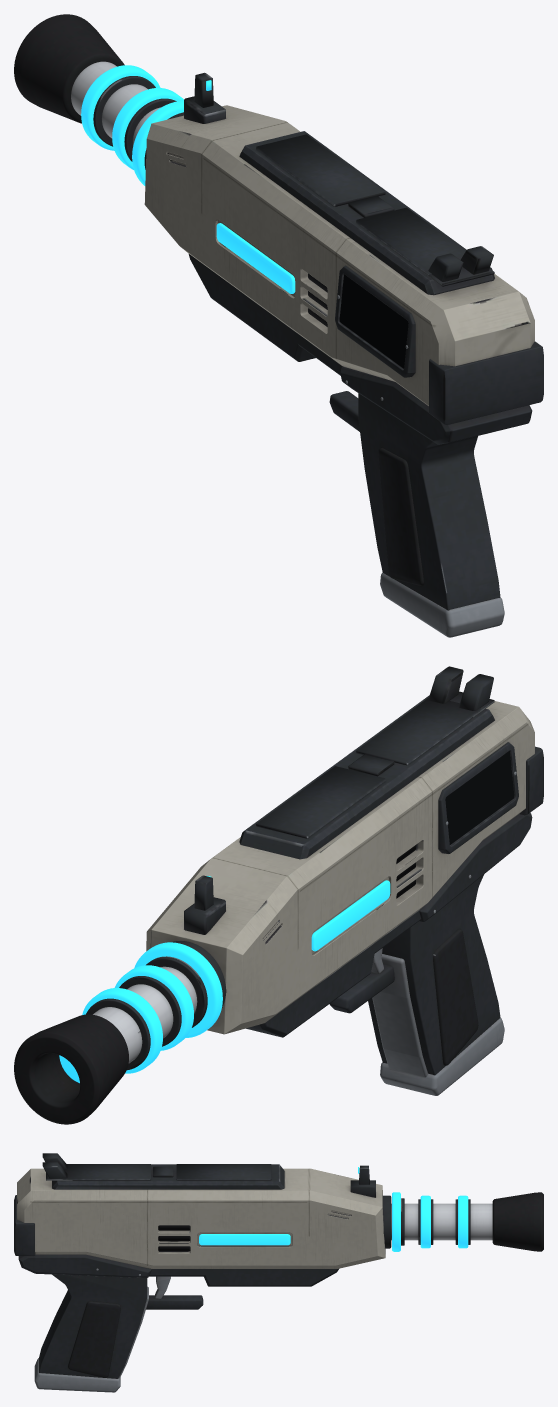
The model's file is blaster.glb.
3 renders of one model, top to bottom at view 1: azimuth 30°, elevation 25°; view 2: azimuth 150°, elevation 25°; view 3: azimuth 270°, elevation 25°, orthographic. The views are drawn at different scales.
Visible parts, largest first — view 1: body, emitters, battlestat_screen, battlestat_frame, barrel; view 2: body, emitters, battlestat_screen, barrel, battlestat_frame; view 3: body, emitters, barrel, vents.
Part boxes in pixels (x1,y1,x2,y2): body: (14,14,543,637); emitters: (81,65,295,293); battlestat_screen: (339,274,408,368); battlestat_frame: (335,265,415,377); barrel: (71,61,160,144); body: (14,666,543,1124); emitters: (59,875,390,1083); battlestat_screen: (445,751,514,844); barrel: (93,966,197,1063); battlestat_frame: (438,742,518,853); body: (14,1153,543,1392); emitters: (199,1167,468,1251); barrel: (391,1203,492,1240); vents: (158,1225,190,1251).
Size of the model in its own units: 0.0668 by 0.2229 by 0.4753.
Materials: 4 (1 with a texture image).
